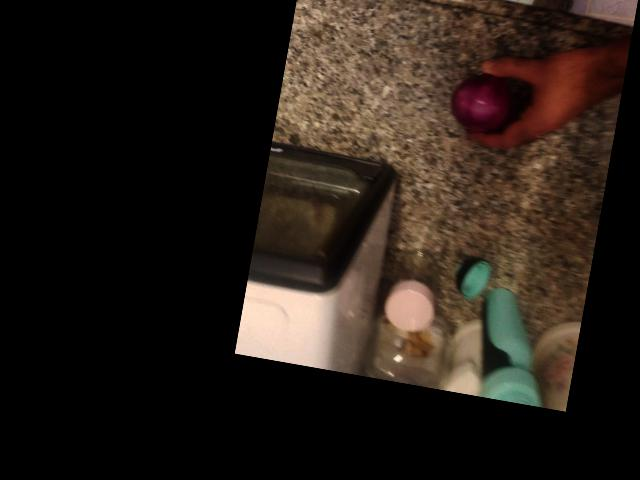onion: (258, 101, 352, 197)
